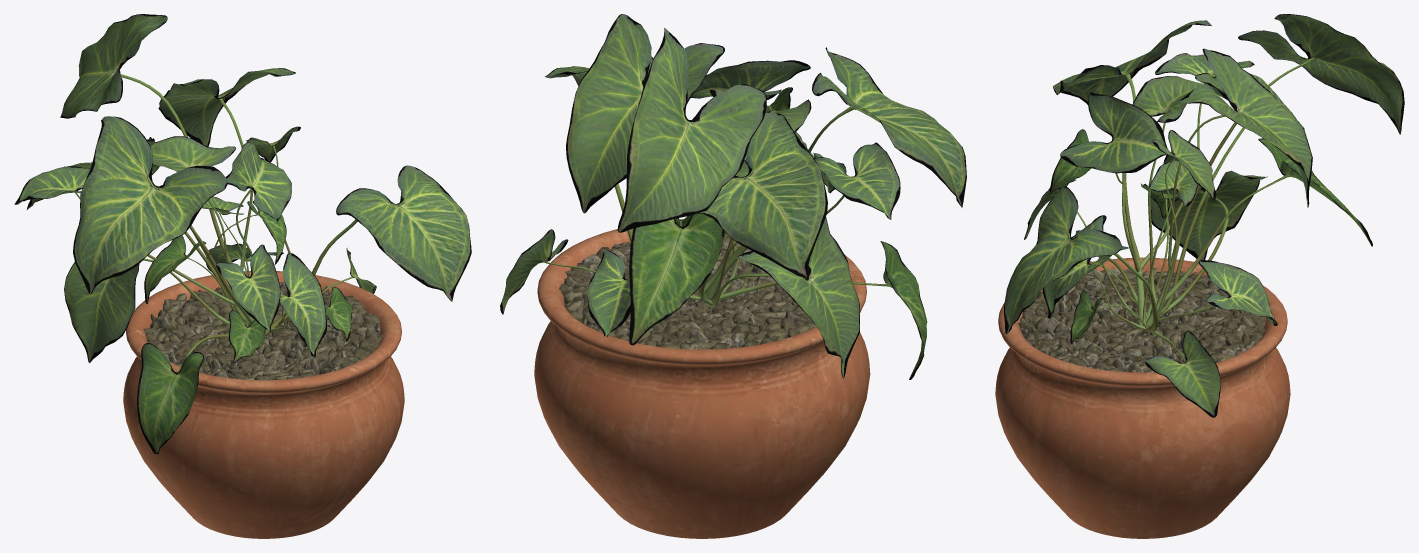
The model's file is potted_plant_02.glb.
The picture shows the model from 3 angles, left to right: view 1: azimuth 30°, elevation 25°; view 2: azimuth 150°, elevation 25°; view 3: azimuth 270°, elevation 25°; orthographic projection. The views are drawn at different scales.
Parts seen in each view (by area): view 1: potted_plant_02_leaves, potted_plant_02_pot; view 2: potted_plant_02_leaves, potted_plant_02_pot; view 3: potted_plant_02_pot, potted_plant_02_leaves.
Part boxes in pixels (x1,y1,x2,y2): potted_plant_02_leaves: [14, 14, 471, 454]; potted_plant_02_pot: [123, 271, 404, 538]; potted_plant_02_leaves: [500, 14, 966, 379]; potted_plant_02_pot: [534, 219, 870, 538]; potted_plant_02_pot: [995, 257, 1290, 538]; potted_plant_02_leaves: [1004, 14, 1404, 417].
Bounding box in the file's own units: 0.7012 × 0.8412 × 0.6574.
2 materials, 2 textured.
